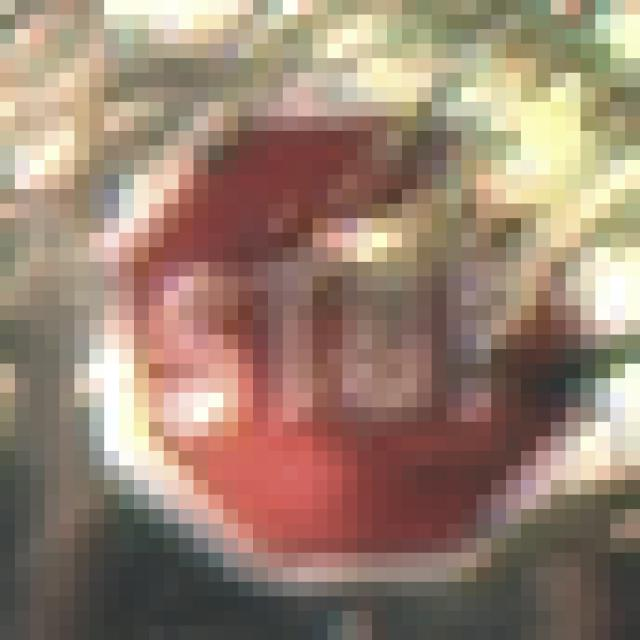STOP: (90, 74, 567, 554)
